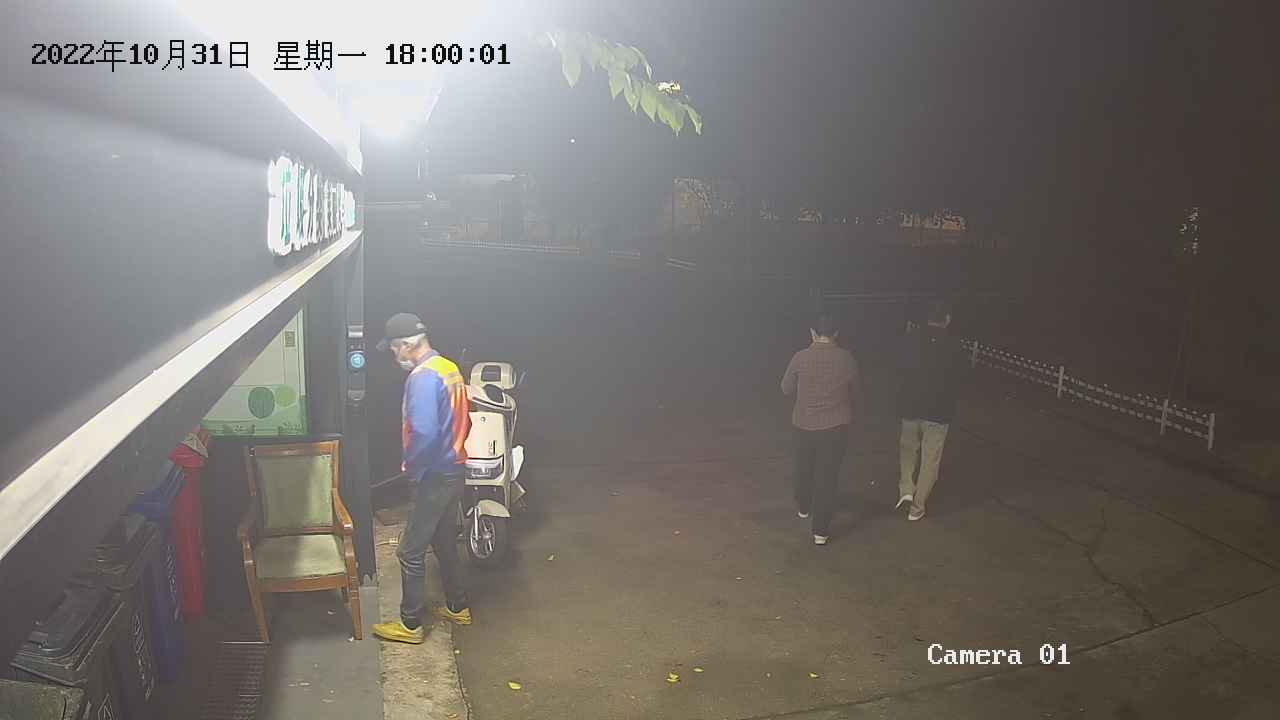person: (778, 309, 862, 545), (891, 297, 959, 523)
worker: (366, 310, 474, 646)
